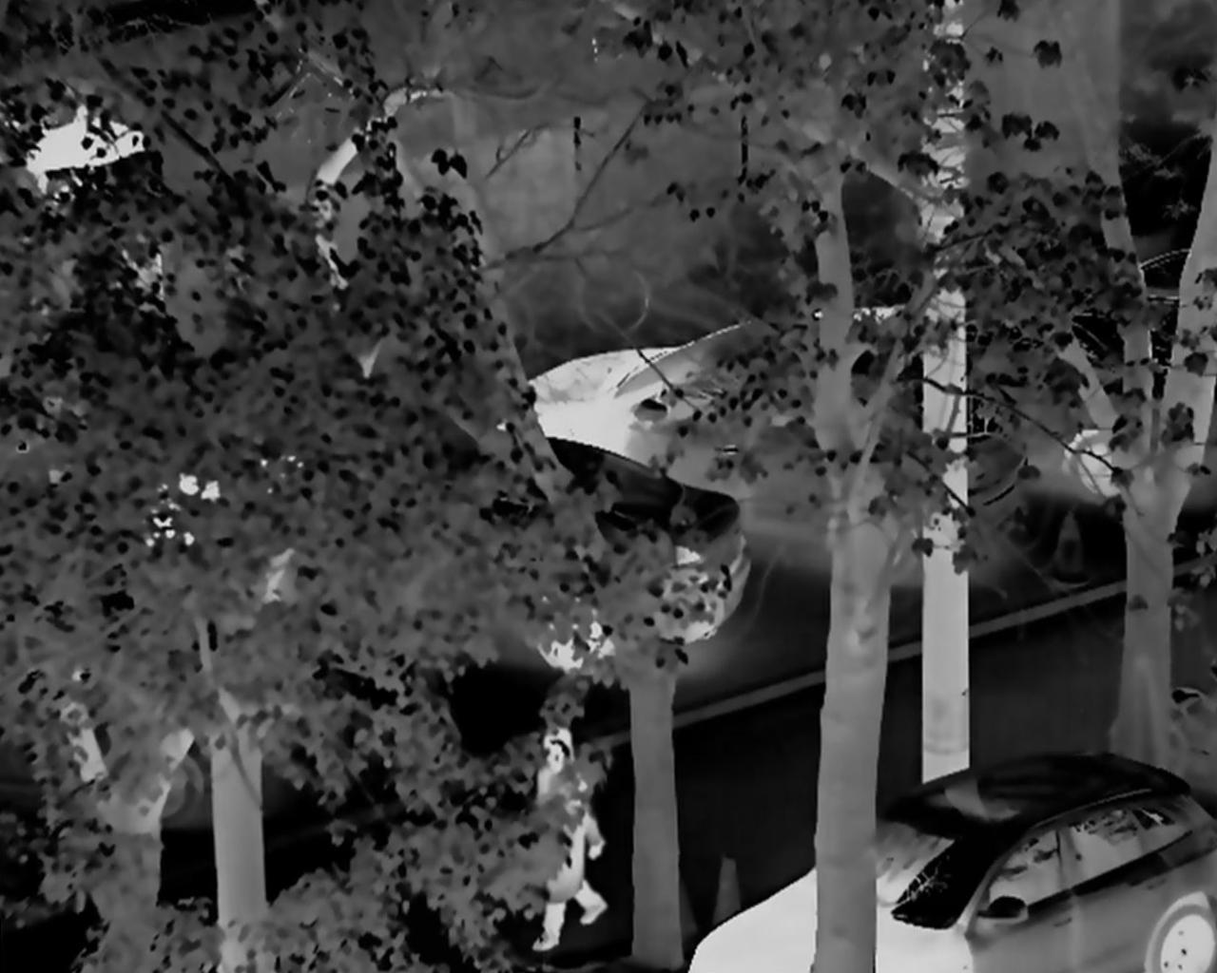person: (523, 719, 612, 956)
